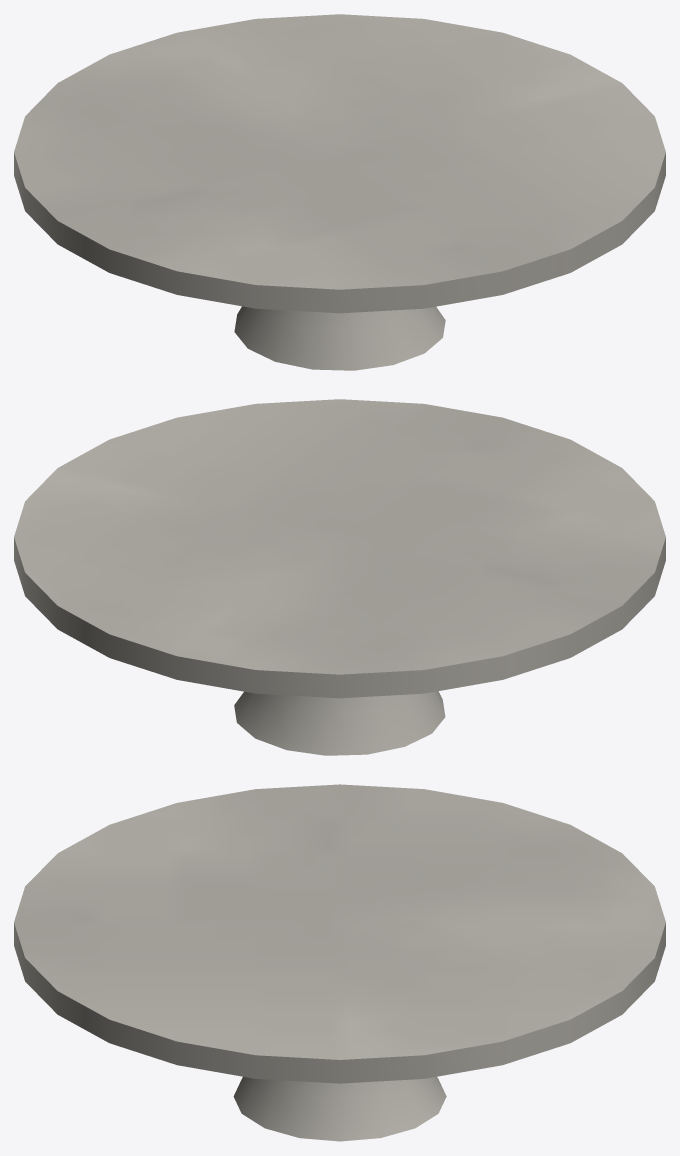
File: cake_stand.glb
3 renders of one model, top to bottom at view 1: azimuth 30°, elevation 25°; view 2: azimuth 150°, elevation 25°; view 3: azimuth 270°, elevation 25°, orthographic.
Parts seen in each view (by area): view 1: cake_stand; view 2: cake_stand; view 3: cake_stand.
Part boxes in pixels (bbox=[...]): cake_stand: bbox=[14, 14, 665, 370]; cake_stand: bbox=[14, 399, 665, 755]; cake_stand: bbox=[14, 784, 665, 1141].
Bounding box in the file's own units: 0.25 × 0.0737 × 0.25.
1 material, 1 textured.
